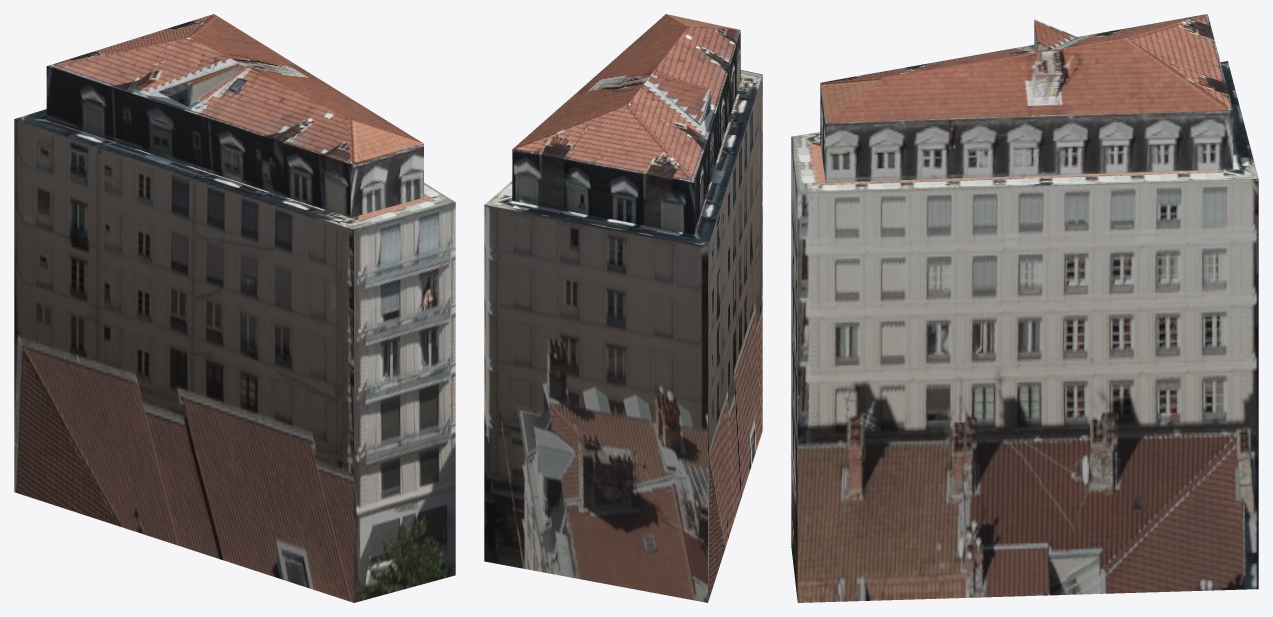
3 views of the same model, side by side, from view 1: azimuth 30°, elevation 25°; view 2: azimuth 150°, elevation 25°; view 3: azimuth 270°, elevation 25° (orthographic). The views are drawn at different scales.
Parts seen in each view (by area): view 1: Z_UP; view 2: Z_UP; view 3: Z_UP.
Boxes of the visible parts, x1,y1,x2,y2 form: Z_UP: (14, 14, 455, 602); Z_UP: (484, 14, 762, 602); Z_UP: (791, 14, 1258, 602).
Bounding box in the file's own units: 15.82 × 28.15 × 23.69.
2 materials, 1 textured.
